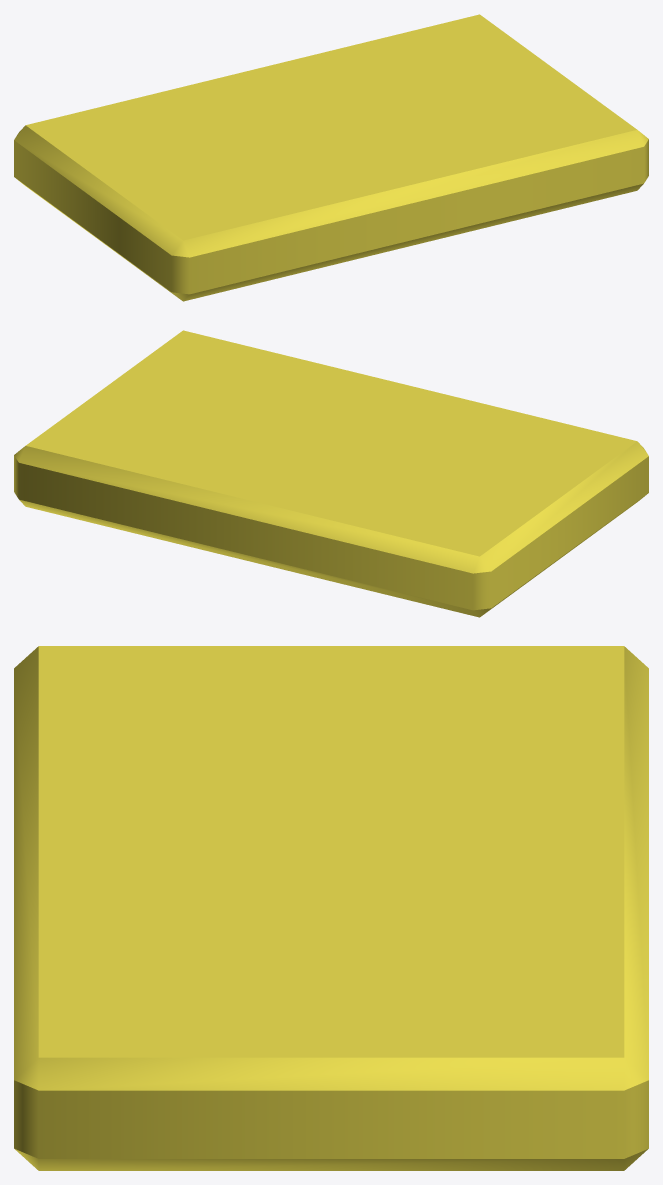
Rendered from Astral Plate.fbx.
3 views of the same model, one above another, from view 1: azimuth 30°, elevation 25°; view 2: azimuth 150°, elevation 25°; view 3: azimuth 270°, elevation 25° (orthographic). The views are drawn at different scales.
Parts seen in each view (by area): view 1: Cube; view 2: Cube; view 3: Cube.
Part boxes in pixels (x1,y1,x2,y2): Cube: (14, 14, 648, 301); Cube: (14, 330, 648, 617); Cube: (14, 646, 648, 1170).
Bounding box in the file's own units: 16.12 × 1.97 × 10.
